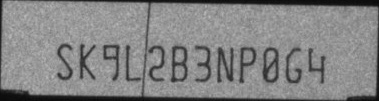0: (262, 46, 280, 84)
2: (147, 44, 165, 81)
3: (193, 43, 211, 83)
4: (307, 46, 326, 85)
9: (102, 43, 120, 80)
B: (171, 43, 188, 82)
G: (283, 44, 301, 83)
K: (79, 42, 97, 80)
L: (125, 42, 141, 80)
N: (215, 45, 233, 82)
P: (238, 45, 256, 83)
S: (56, 43, 73, 81)
